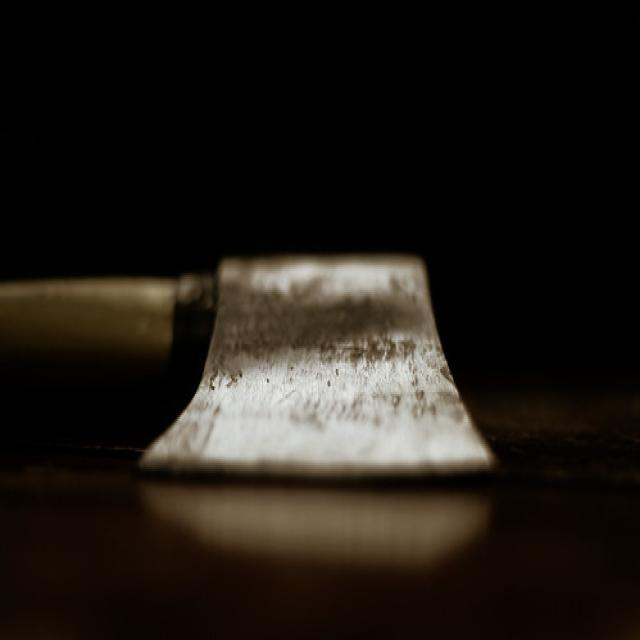Axe: (0, 254, 494, 478)
